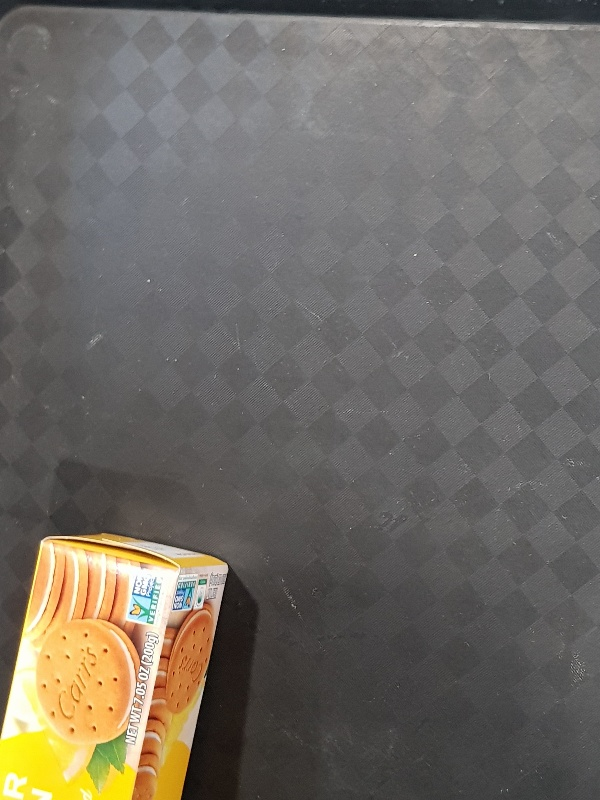Carr's Ginger Lemon Cremes: (1, 532, 229, 800)
